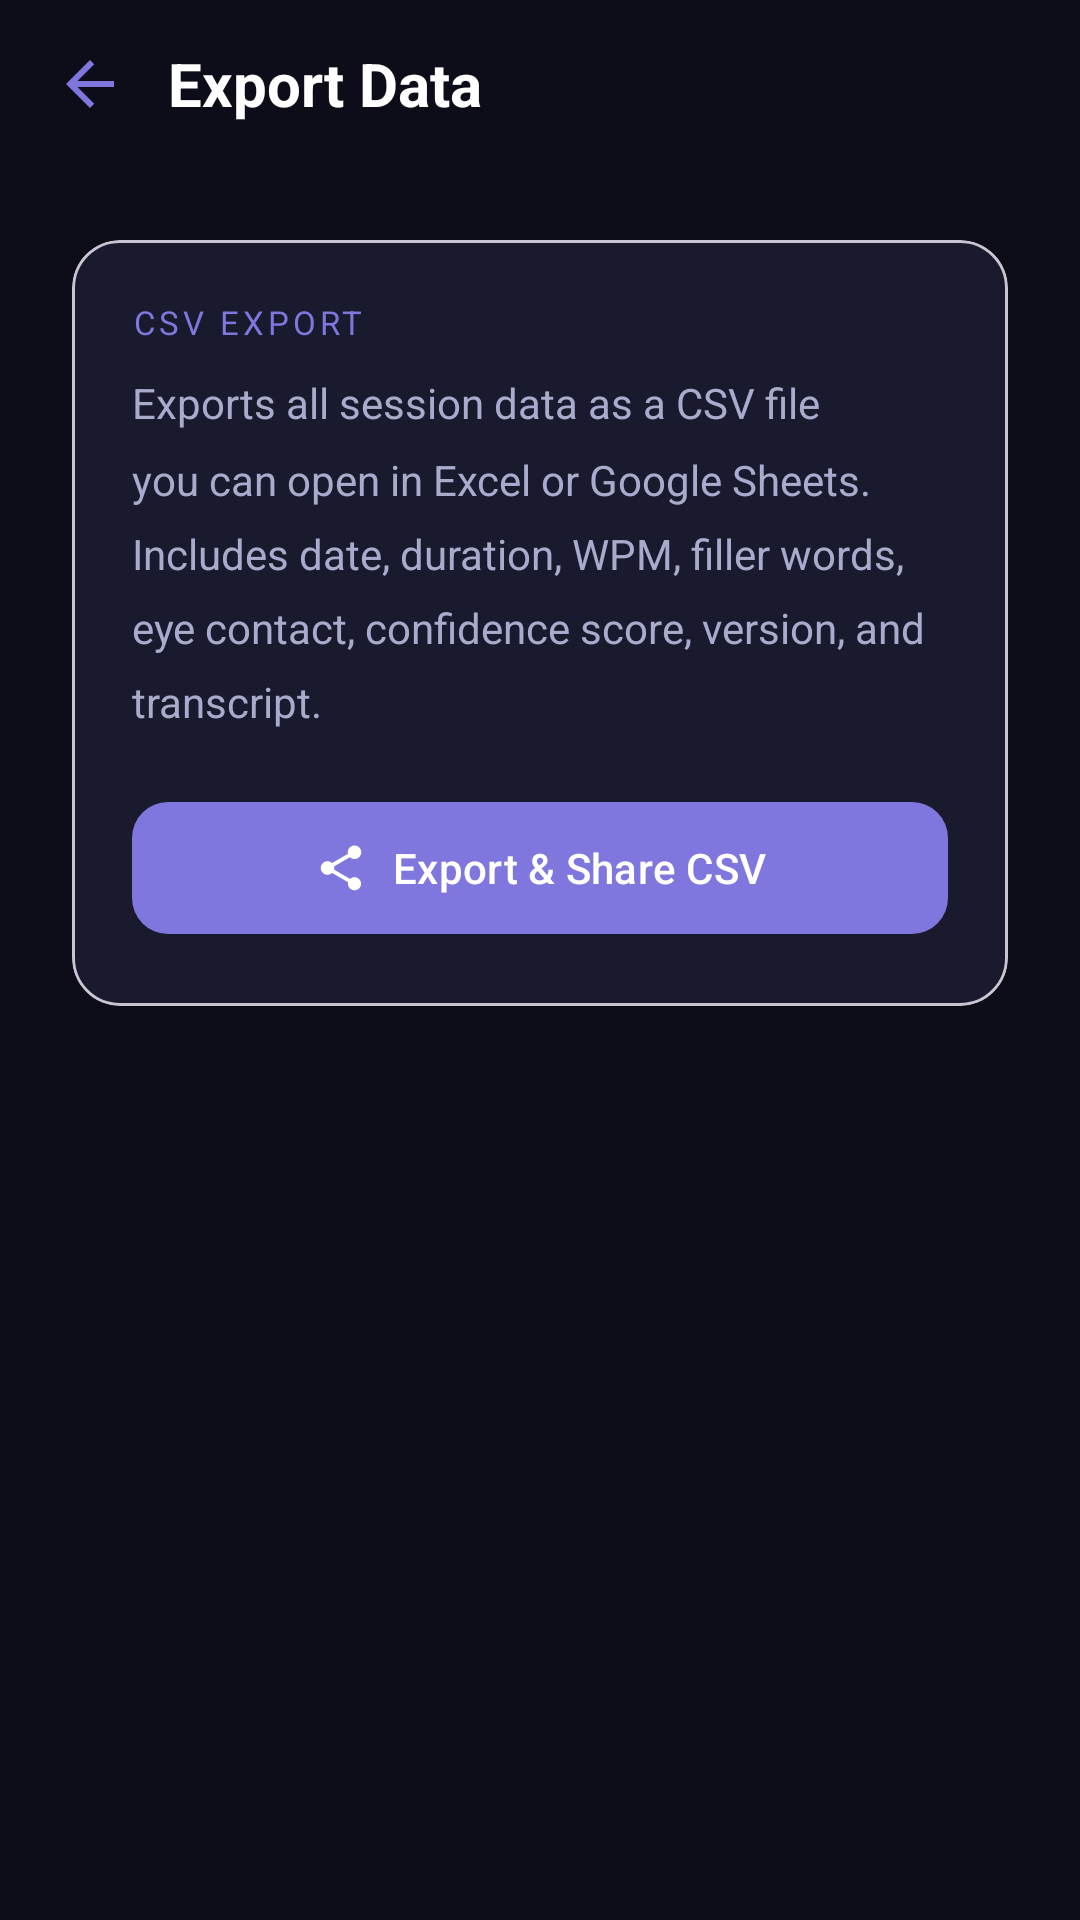

Point at icon controls on the screen. Image size 1080x1920, points as point (x, y).
Back: point (90, 84)
